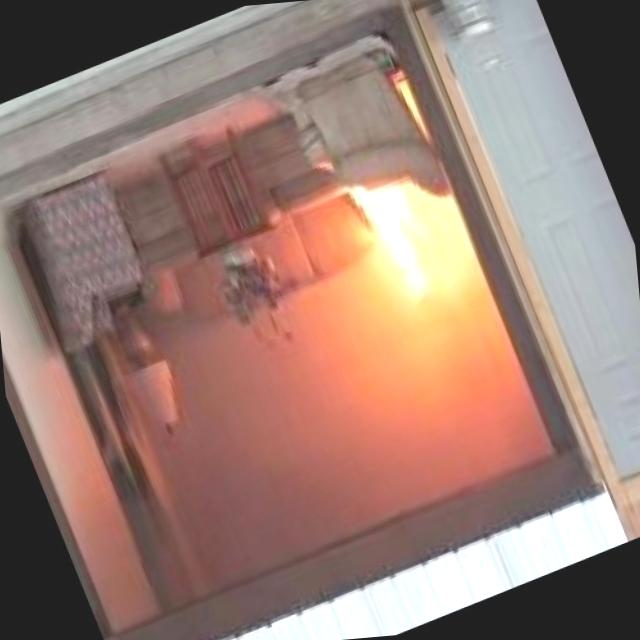fire: (331, 148, 481, 322)
